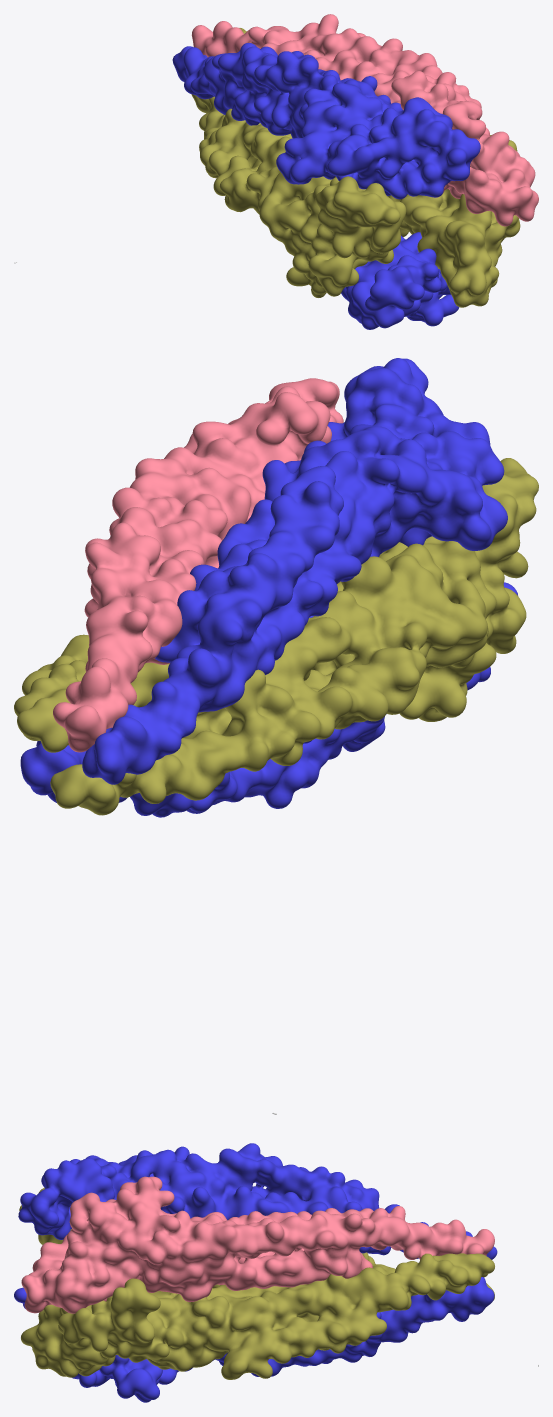
The model's file is nicotinic_acetylcholine_receptor.glb.
3 renders of one model, top to bottom at view 1: azimuth 30°, elevation 25°; view 2: azimuth 150°, elevation 25°; view 3: azimuth 270°, elevation 25°, orthographic. The views are drawn at different scales.
Parts seen in each view (by area): view 1: Object_8, Object_16, Object_10, Object_12, Object_14; view 2: Object_8, Object_16, Object_10, Object_14, Object_12; view 3: Object_10, Object_12, Object_8, Object_14, Object_16.
Part boxes in pixels (bbox=[...]): Object_8: bbox=[172, 43, 480, 199]; Object_16: bbox=[191, 94, 406, 297]; Object_10: bbox=[191, 14, 538, 226]; Object_12: bbox=[239, 28, 520, 307]; Object_14: bbox=[341, 232, 459, 329]; Object_8: bbox=[82, 358, 507, 784]; Object_16: bbox=[50, 458, 538, 815]; Object_10: bbox=[53, 378, 343, 752]; Object_14: bbox=[20, 582, 517, 817]; Object_12: bbox=[14, 581, 343, 752]; Object_10: bbox=[21, 1176, 494, 1313]; Object_12: bbox=[21, 1253, 494, 1379]; Object_8: bbox=[18, 1143, 497, 1259]; Object_14: bbox=[14, 1277, 494, 1402]; Object_16: bbox=[19, 1188, 494, 1300].
Size of the model in its own units: 107 by 104 by 176.
